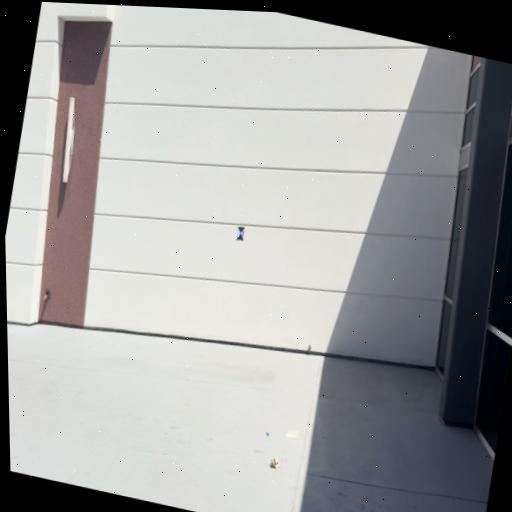target7: (235, 226, 246, 241)
